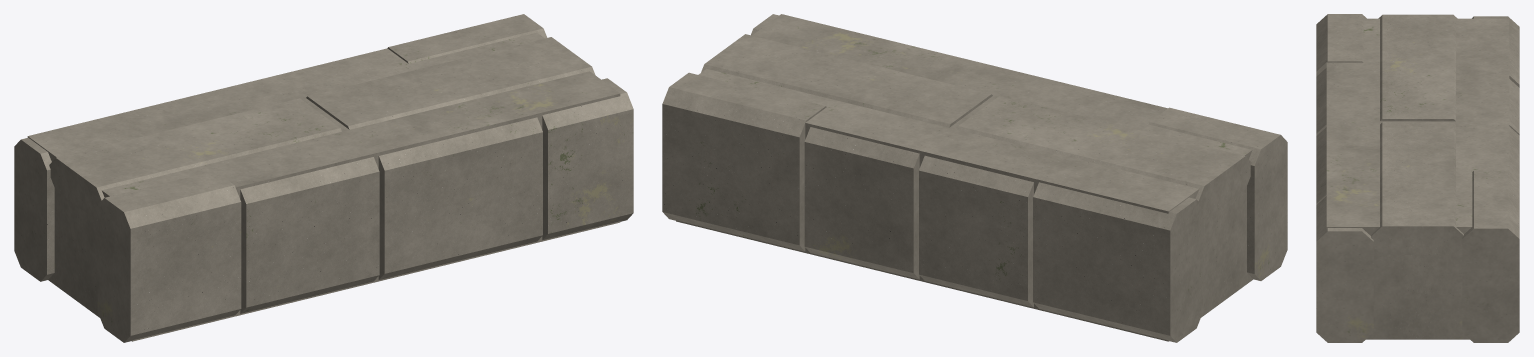
File: HO_Found_Plinth_4.fbx
The picture shows the model from 3 angles, left to right: view 1: azimuth 30°, elevation 25°; view 2: azimuth 150°, elevation 25°; view 3: azimuth 270°, elevation 25°; orthographic projection. The views are drawn at different scales.
Visible parts, largest first — view 1: HO_Found_Plinth_4; view 2: HO_Found_Plinth_4; view 3: HO_Found_Plinth_4.
Part boxes in pixels (x1,y1,x2,y2): HO_Found_Plinth_4: (14,14,633,342); HO_Found_Plinth_4: (662,14,1287,342); HO_Found_Plinth_4: (1316,14,1519,342).
Size of the model in its own units: 4 by 1 by 1.6.
